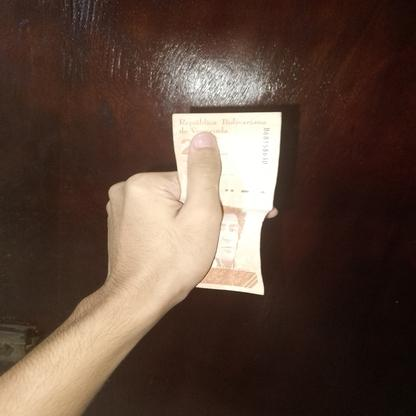twenty-front-vef: (172, 111, 282, 296)
